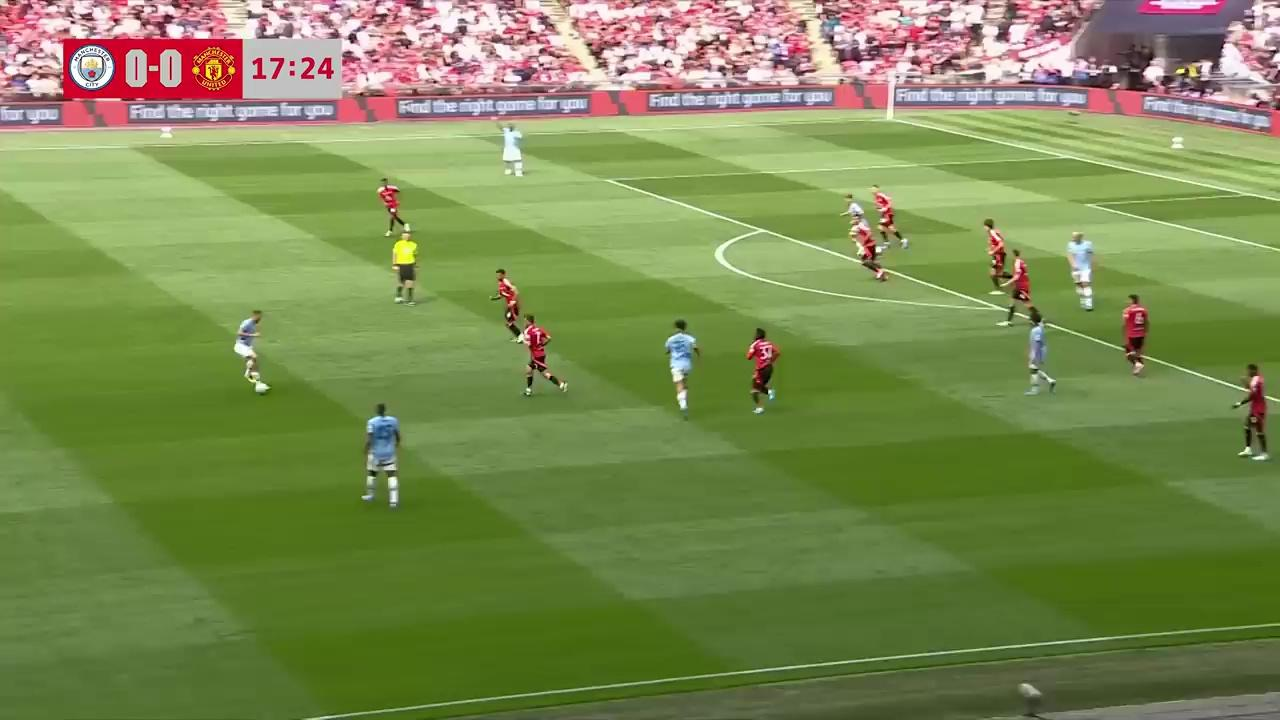ball: (254, 379, 269, 394)
player: (362, 402, 402, 508), (519, 314, 567, 397), (1230, 361, 1270, 460), (664, 319, 701, 418), (233, 310, 269, 393), (745, 327, 779, 414), (1023, 310, 1056, 396), (850, 216, 890, 283), (1004, 250, 1037, 324), (490, 268, 522, 342), (1066, 230, 1095, 311), (871, 188, 908, 251), (1122, 294, 1148, 376), (982, 218, 1008, 293), (377, 177, 404, 236), (501, 123, 523, 177), (840, 192, 865, 237)
referee: (391, 226, 418, 304)
